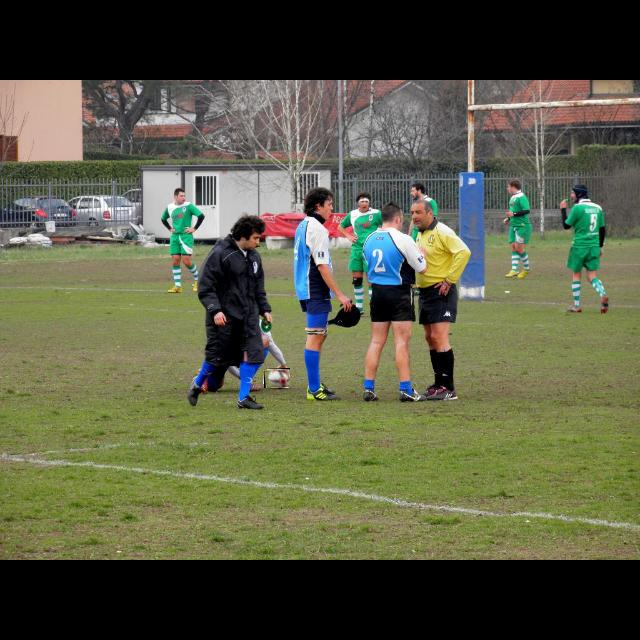Football: (264, 368, 290, 388)
